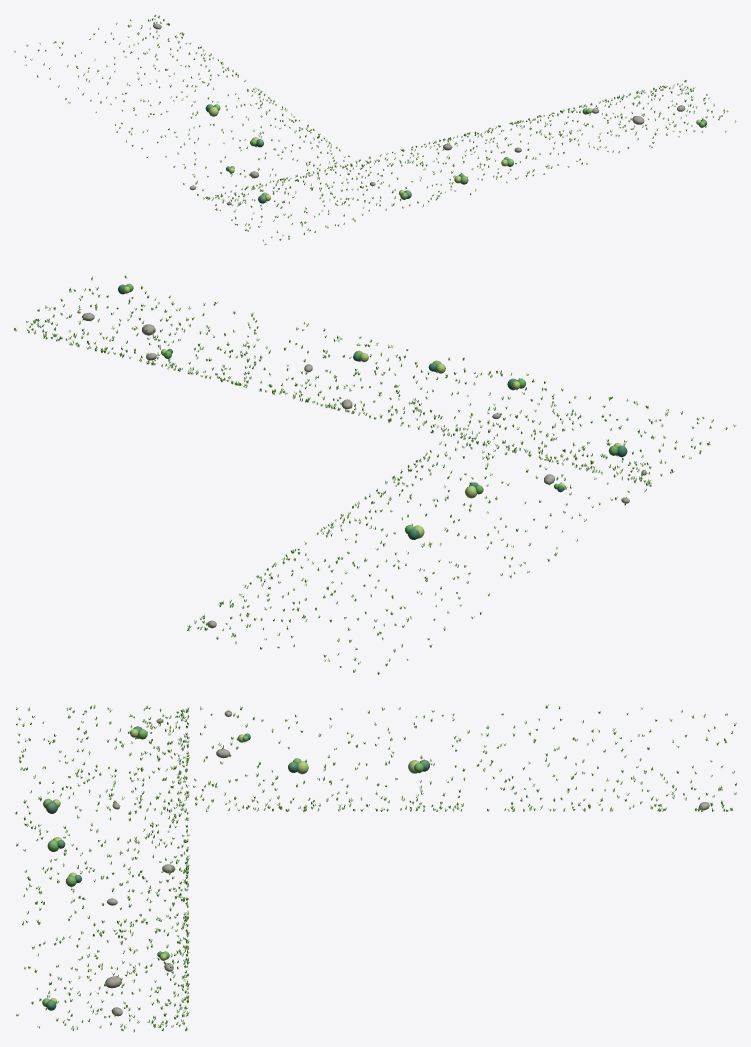
Rendered from storybook-meadow-grass.glb.
3 renders of one model, top to bottom at view 1: azimuth 30°, elevation 25°; view 2: azimuth 150°, elevation 25°; view 3: azimuth 270°, elevation 25°, orthographic. The views are drawn at different scales.
Visible parts, largest first — view 1: storybook-meadow-grass; view 2: storybook-meadow-grass; view 3: storybook-meadow-grass.
Part boxes in pixels (x1,y1,x2,y2): storybook-meadow-grass: (153,23,706,205); storybook-meadow-grass: (82,283,646,628); storybook-meadow-grass: (42,710,709,1016).
Bounding box in the file's own units: 58.26 × 1.48 × 54.73.
